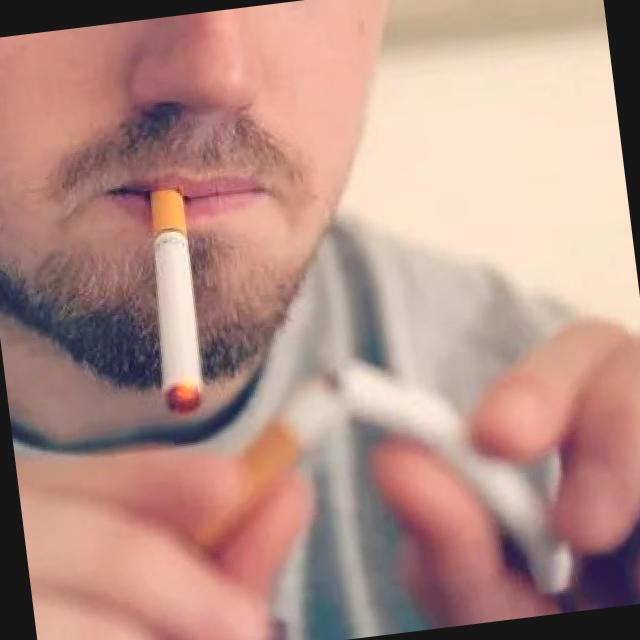cigarette: (124, 172, 224, 429)
